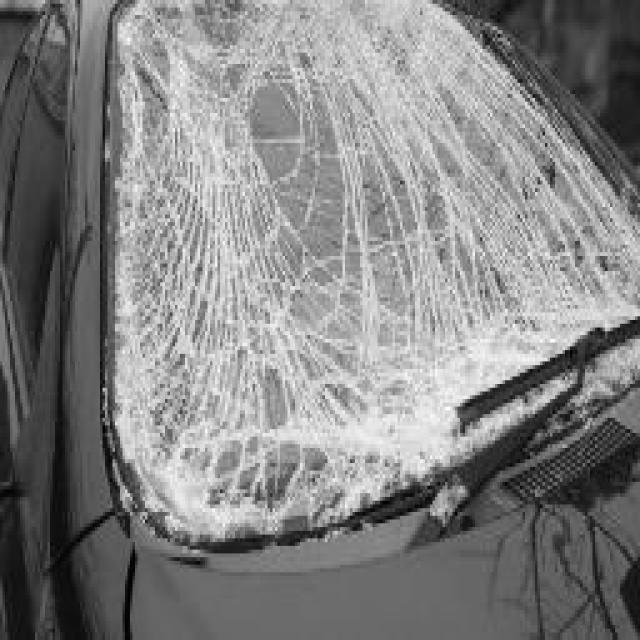Windshield: (110, 0, 640, 535)
